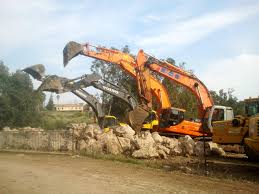excavator: (58, 38, 207, 137), (136, 44, 237, 149), (21, 63, 127, 135)
